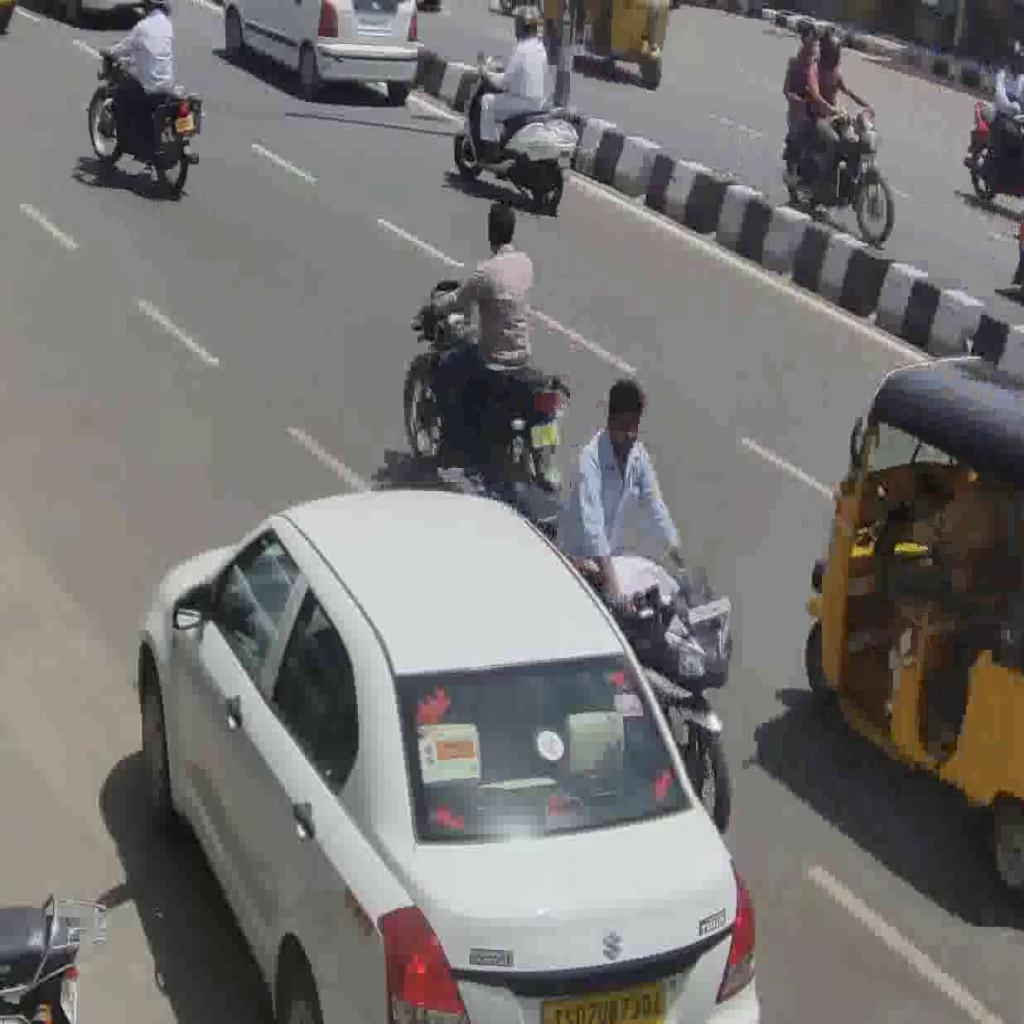bike: (497, 468, 738, 847), (398, 278, 568, 498), (450, 52, 578, 219), (85, 40, 207, 200), (780, 104, 898, 253)
helmet: (817, 28, 844, 72)
lisc: (685, 593, 733, 622), (528, 420, 558, 450), (174, 112, 193, 134), (555, 151, 571, 169), (858, 148, 878, 162)
no_helmet: (599, 380, 649, 467), (480, 199, 518, 253), (510, 4, 538, 42), (795, 20, 817, 59)
rider: (418, 198, 538, 461), (562, 376, 684, 610), (804, 24, 876, 200), (476, 4, 548, 158), (784, 19, 824, 177)
